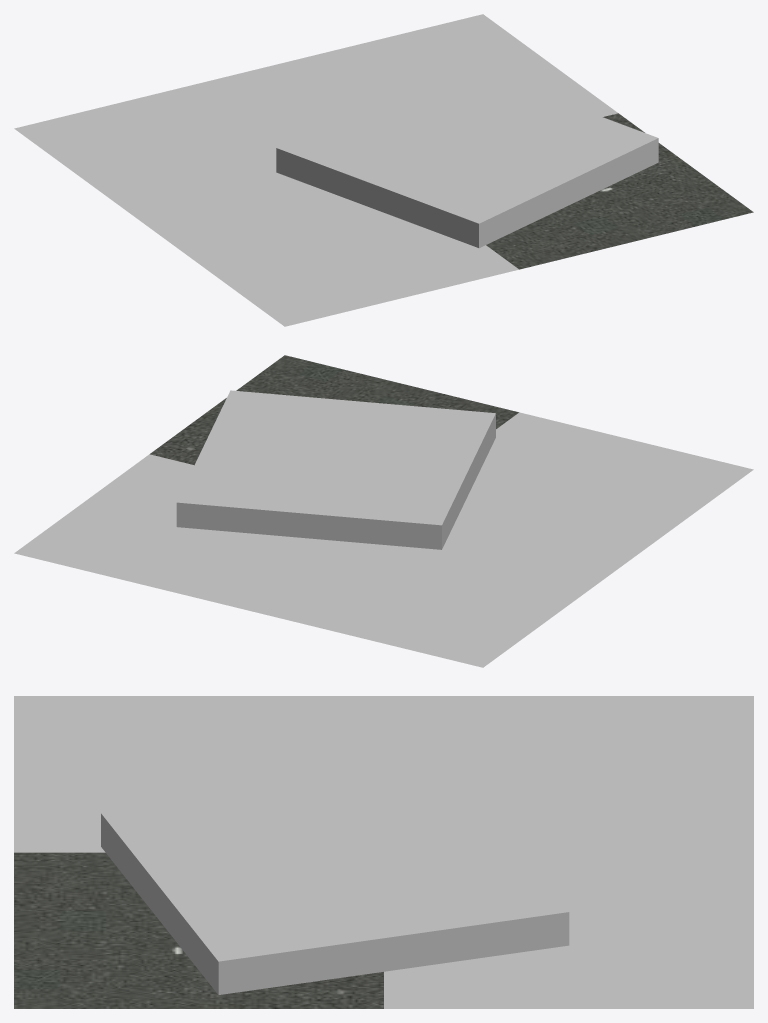
File: roadAsphalt_damaged.fbx
The picture shows the model from 3 angles, top to bottom: view 1: azimuth 30°, elevation 25°; view 2: azimuth 150°, elevation 25°; view 3: azimuth 270°, elevation 25°; orthographic projection. The views are drawn at different scales.
Visible parts, largest first — view 1: roadAsphalt_damaged; view 2: roadAsphalt_damaged; view 3: roadAsphalt_damaged.
Boxes of the visible parts, x1,y1,x2,y2 form: roadAsphalt_damaged: (14,14,753,326); roadAsphalt_damaged: (14,355,753,667); roadAsphalt_damaged: (14,696,753,1008).
Bounding box in the file's own units: 10 × 0.5 × 10.
